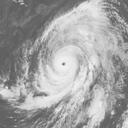cyclone: (40, 45, 90, 97)
